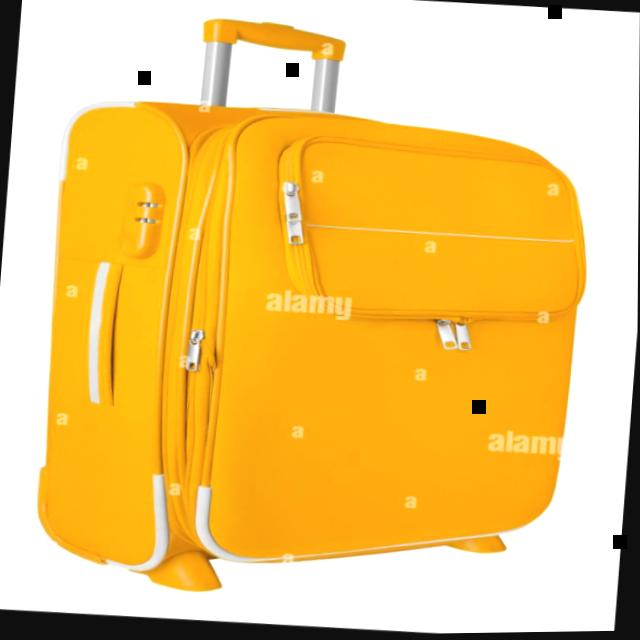luggage: (17, 81, 610, 610)
